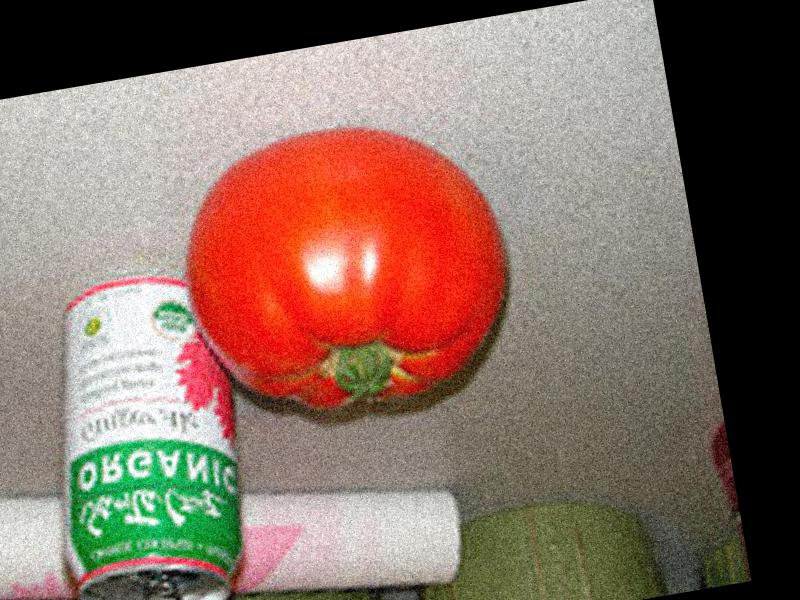Tomato: (169, 107, 522, 427)
